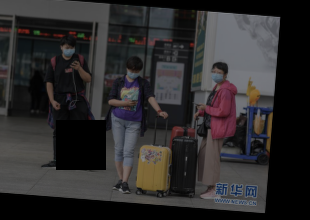with_mask: (210, 65, 224, 83), (60, 43, 75, 58), (127, 66, 140, 80)
